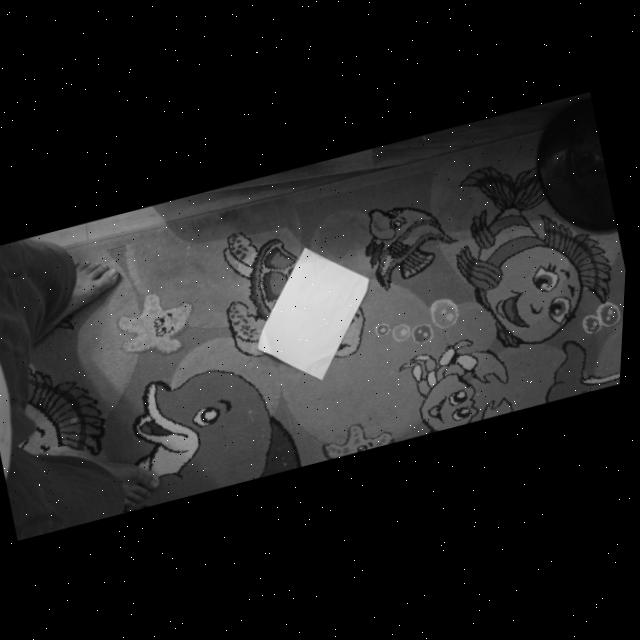document: (257, 247, 369, 380)
